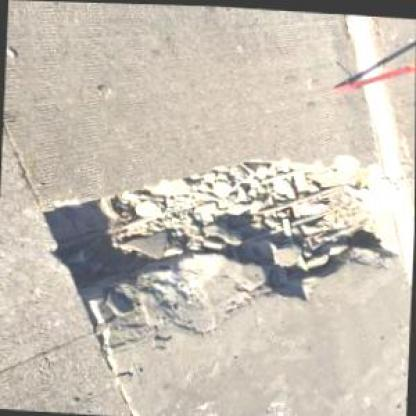pothole: (33, 139, 408, 327)
